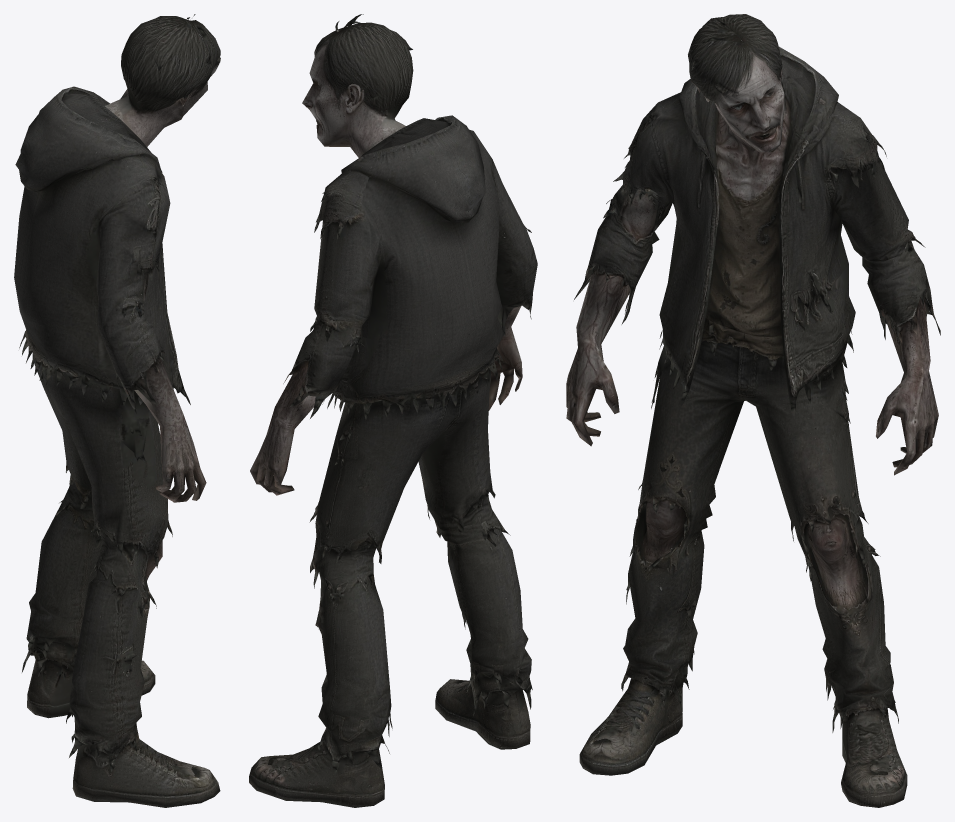
Rendered from tripo_convert_3d64ea66-4536-47c3-b7ec-cd67096920f8.fbx.
3 views of the same model, side by side, from view 1: azimuth 30°, elevation 25°; view 2: azimuth 150°, elevation 25°; view 3: azimuth 270°, elevation 25° (orthographic). The views are drawn at different scales.
Parts seen in each view (by area): view 1: tripo_node_3d64ea66; view 2: tripo_node_3d64ea66; view 3: tripo_node_3d64ea66.
Boxes of the visible parts, bbox=[...] form: tripo_node_3d64ea66: bbox=[14, 14, 220, 807]; tripo_node_3d64ea66: bbox=[249, 14, 537, 807]; tripo_node_3d64ea66: bbox=[566, 14, 940, 807].
Size of the model in its own units: 0.2676 by 0.998 by 0.4395.
1 material, 1 textured.
